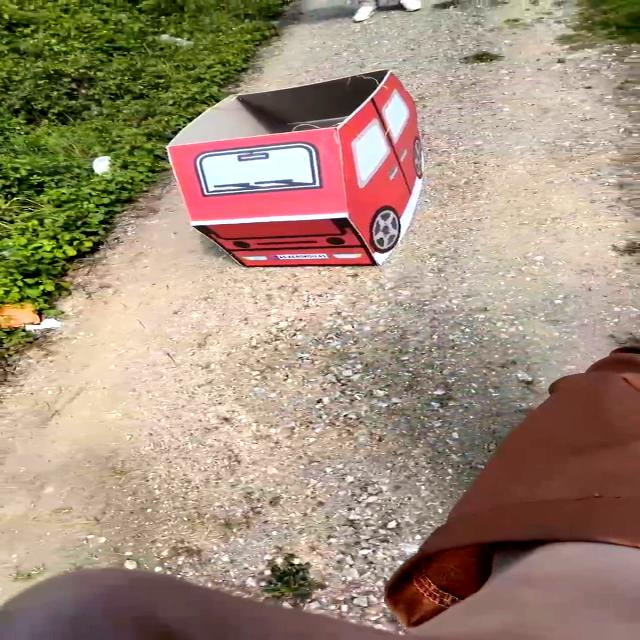red_car: (133, 62, 448, 284)
